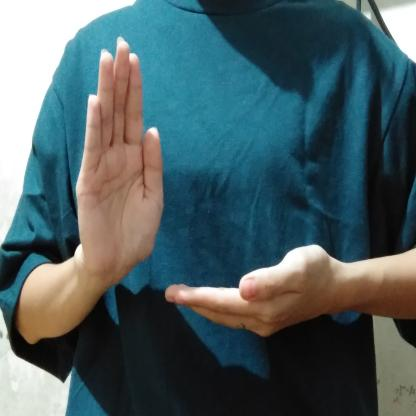hello: (72, 32, 389, 344)
